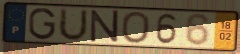6: (183, 12, 213, 49), (155, 13, 179, 46)
G: (27, 7, 57, 41)
N: (90, 10, 120, 44)
O: (120, 11, 152, 46)
U: (56, 7, 89, 43)
